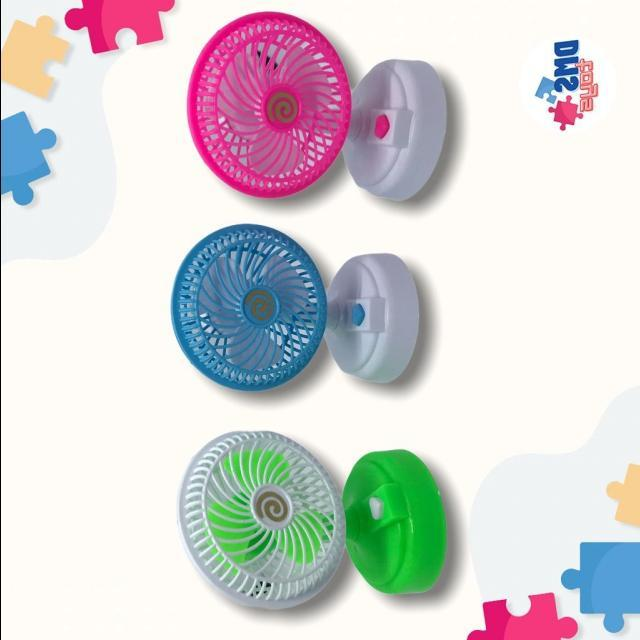fan: (165, 5, 466, 621)
